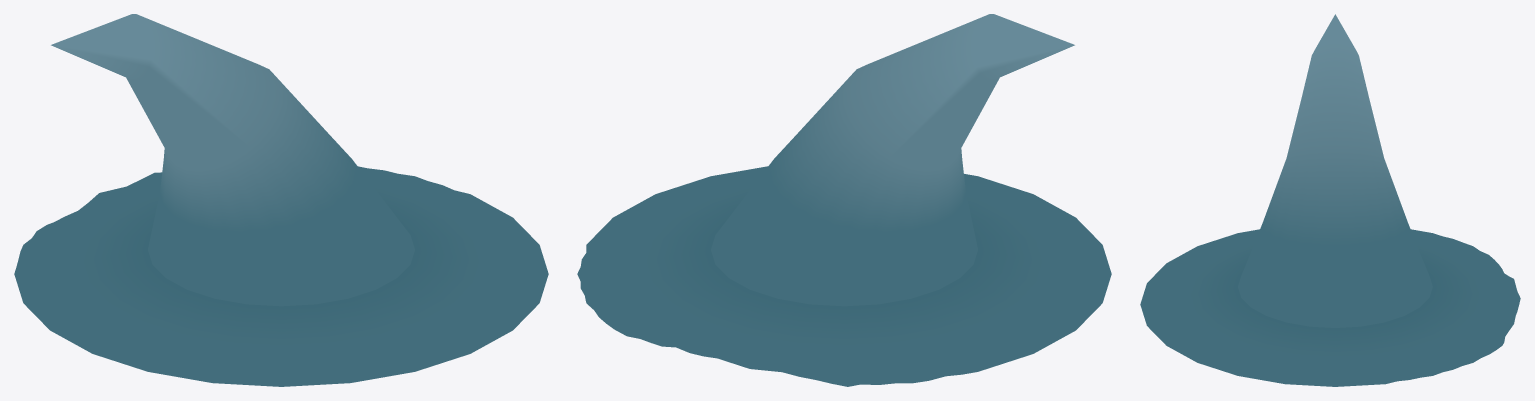
Rendered from Wizard_Hat_v3_Merged.glb.
3 renders of one model, left to right at view 1: azimuth 30°, elevation 25°; view 2: azimuth 150°, elevation 25°; view 3: azimuth 270°, elevation 25°, orthographic. The views are drawn at different scales.
Visible parts, largest first — view 1: Wizard's Hat; view 2: Wizard's Hat; view 3: Wizard's Hat.
Boxes of the visible parts, bbox=[...] form: Wizard's Hat: bbox=[14, 14, 548, 386]; Wizard's Hat: bbox=[577, 14, 1111, 386]; Wizard's Hat: bbox=[1140, 14, 1520, 386].
Size of the model in its own units: 2 by 1.22 by 1.95.
